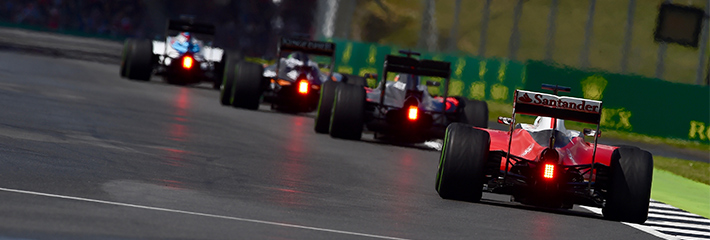race car: (432, 80, 655, 228), (311, 49, 490, 149), (217, 34, 363, 111), (117, 15, 247, 86)
